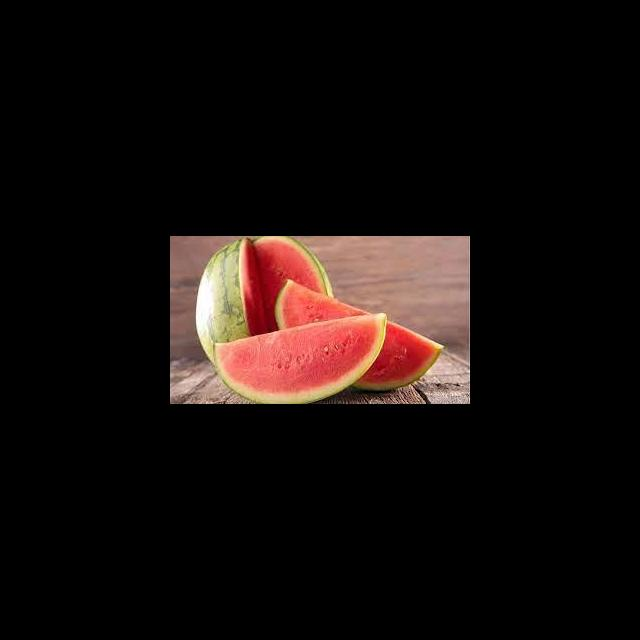watermelon: (274, 278, 443, 392), (195, 236, 334, 366), (212, 313, 388, 404)
